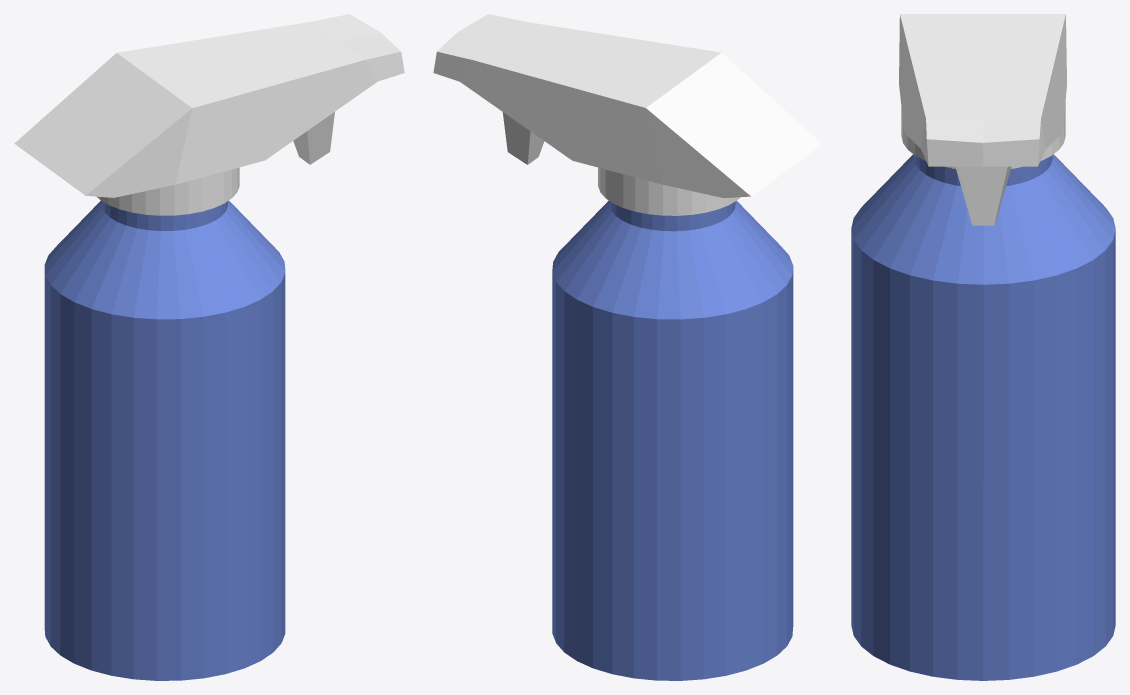
File: SprayBottle.fbx
3 renders of one model, left to right at view 1: azimuth 30°, elevation 25°; view 2: azimuth 150°, elevation 25°; view 3: azimuth 270°, elevation 25°, orthographic. The views are drawn at different scales.
Parts seen in each view (by area): view 1: Cylinder, Cube, Cylinder.001; view 2: Cylinder, Cube, Cylinder.001; view 3: Cylinder, Cube, Cylinder.001.
Part boxes in pixels (<box>): Cylinder: <box>44,200,285,680</box>; Cube: <box>14,14,404,197</box>; Cylinder.001: <box>97,167,239,215</box>; Cylinder: <box>552,200,793,680</box>; Cube: <box>433,14,822,198</box>; Cylinder.001: <box>598,167,739,215</box>; Cylinder: <box>851,154,1115,680</box>; Cube: <box>899,14,1066,225</box>; Cylinder.001: <box>901,96,1065,168</box>.
Size of the model in its own units: 316 by 505 by 200.
